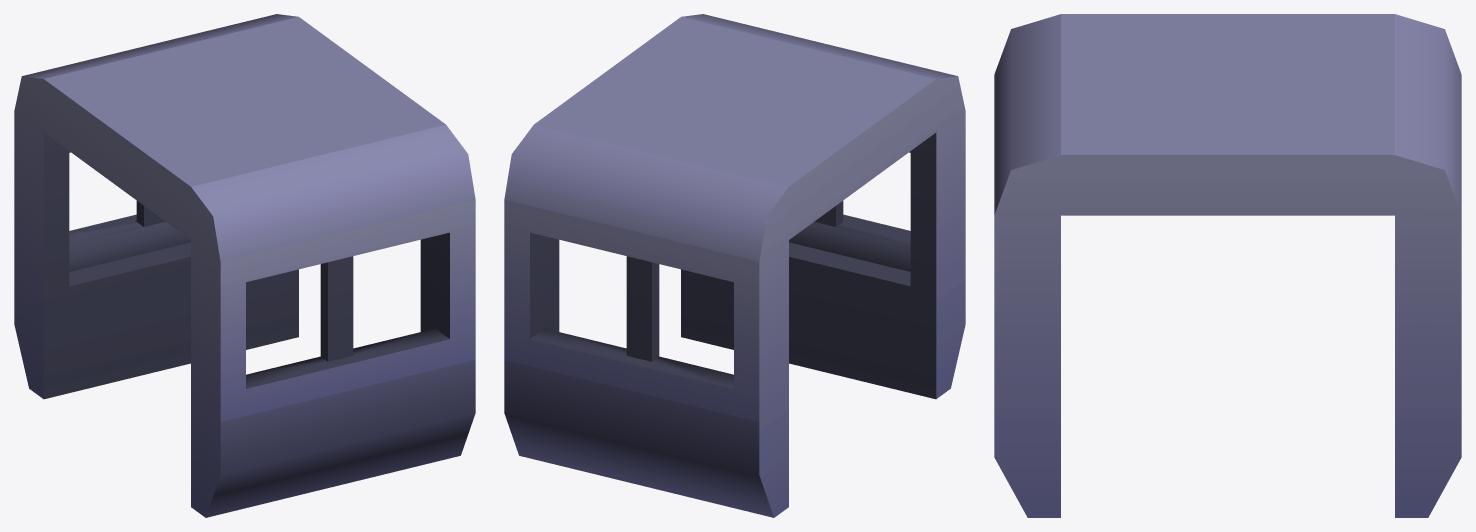
Rendered from kenney-conveyor-cover-bar.glb.
3 renders of one model, left to right at view 1: azimuth 30°, elevation 25°; view 2: azimuth 150°, elevation 25°; view 3: azimuth 270°, elevation 25°, orthographic. The views are drawn at different scales.
Parts seen in each view (by area): view 1: cover-bar; view 2: cover-bar; view 3: cover-bar.
Part boxes in pixels (x1,y1,x2,y2): cover-bar: [14, 14, 475, 517]; cover-bar: [504, 14, 965, 517]; cover-bar: [994, 14, 1461, 517].
Bounding box in the file's own units: 1 × 1.2 × 1.4.
Materials: 1 (1 with a texture image).
